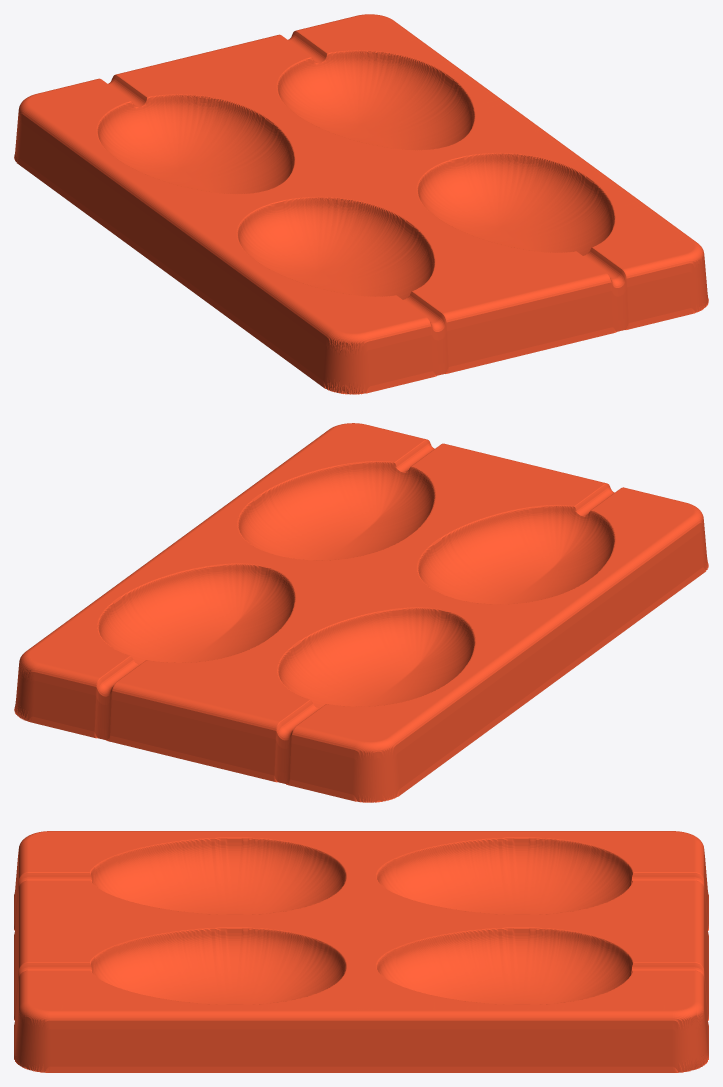
The model's file is mold.glb.
3 views of the same model, one above another, from view 1: azimuth 30°, elevation 25°; view 2: azimuth 150°, elevation 25°; view 3: azimuth 270°, elevation 25° (orthographic). The views are drawn at different scales.
Visible parts, largest first — view 1: geometry_0; view 2: geometry_0; view 3: geometry_0.
Part boxes in pixels (box(x1,y1,x2,y2)): geometry_0: box(14, 14, 708, 394); geometry_0: box(14, 423, 708, 802); geometry_0: box(14, 831, 708, 1072).
Bounding box in the file's own units: 0.1127 × 0.0155 × 0.1735.
